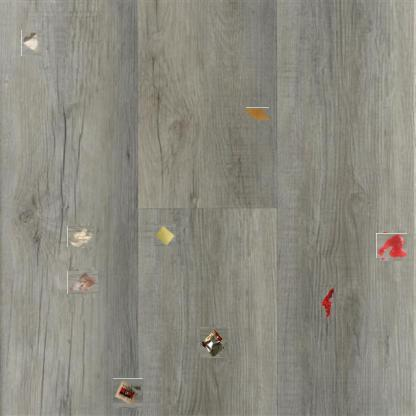dirty: (114, 378, 143, 408), (199, 327, 228, 356), (69, 269, 97, 296), (69, 224, 93, 249), (20, 32, 44, 55), (320, 286, 336, 318), (154, 224, 176, 246)
liquid: (377, 232, 406, 260), (245, 107, 270, 120)
